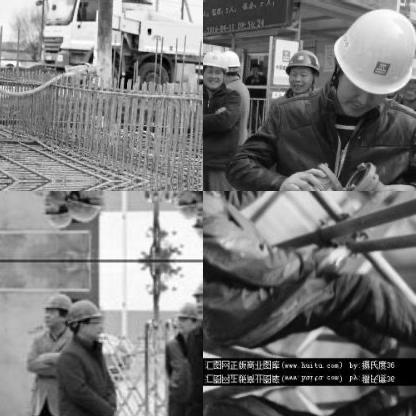Helmet: (332, 2, 416, 112), (64, 295, 106, 343), (285, 48, 319, 92), (64, 191, 107, 224), (39, 191, 71, 232), (40, 287, 70, 329), (173, 294, 199, 336), (203, 46, 227, 88), (172, 191, 200, 225), (400, 53, 415, 100), (190, 271, 202, 323), (190, 195, 202, 247), (222, 46, 238, 74)
